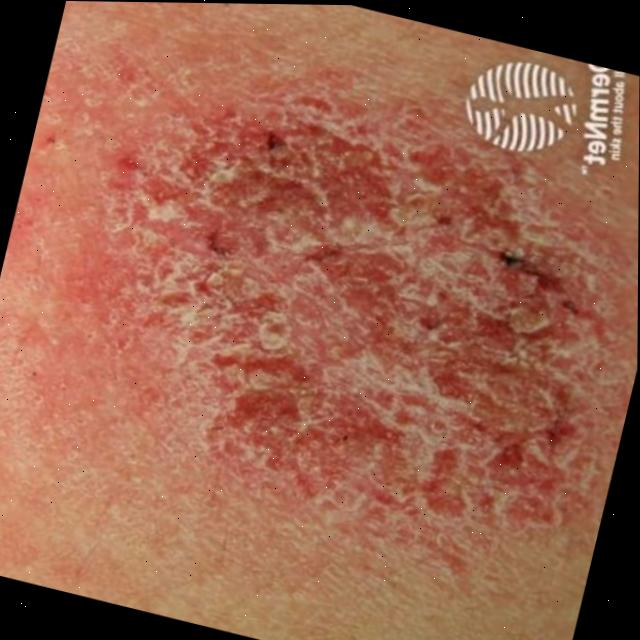Eczema: (0, 24, 640, 578)
